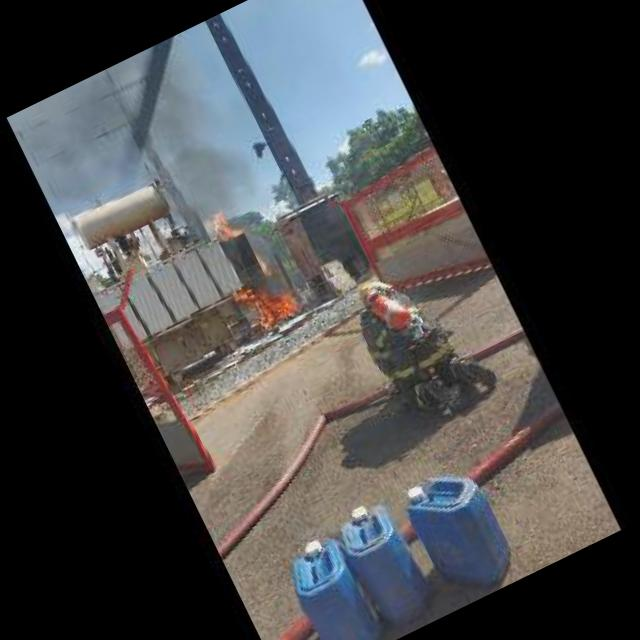fire: (232, 271, 304, 335), (202, 204, 242, 248), (252, 250, 272, 276)
smoke: (6, 28, 273, 290)
